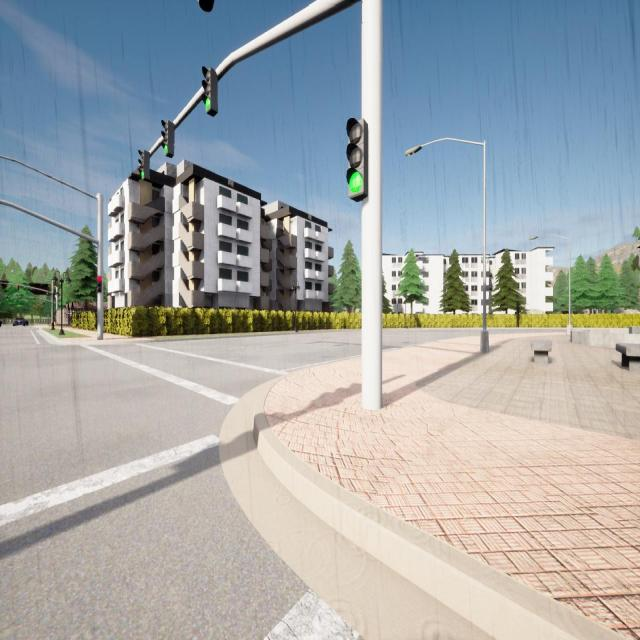Vehicle: (12, 317, 28, 327), (0, 319, 2, 327)
traffic_light: (346, 118, 368, 202), (202, 66, 218, 117), (162, 120, 174, 158), (138, 150, 150, 182), (97, 276, 102, 292), (18, 285, 20, 290), (6, 296, 8, 301), (19, 297, 21, 301), (34, 298, 36, 302)
